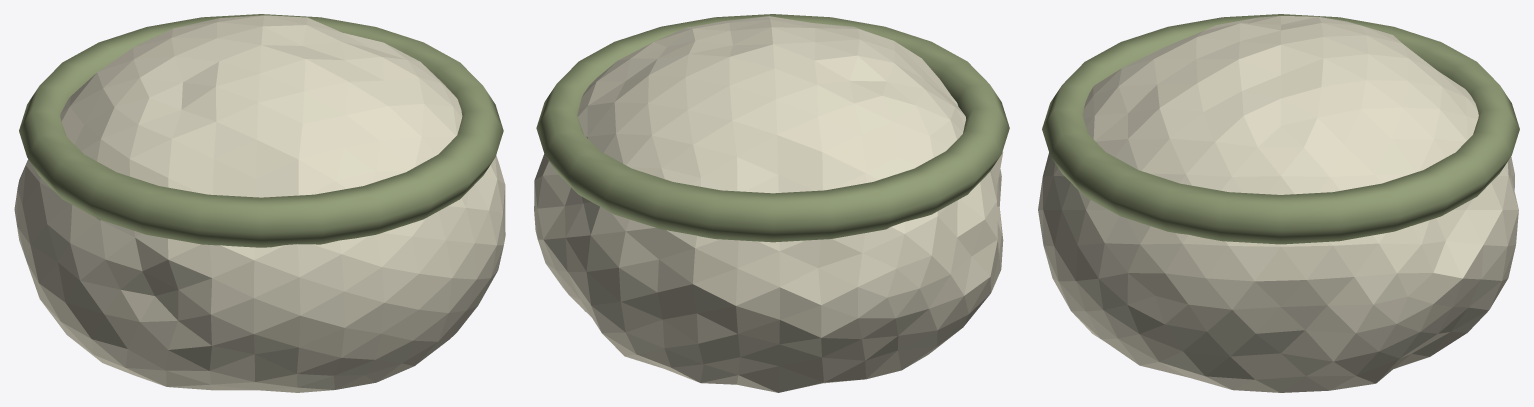
The model's file is primitive-crafting-workshop-grooved-hammerstone-e48d64e2__21536.glb.
The picture shows the model from 3 angles, left to right: view 1: azimuth 30°, elevation 25°; view 2: azimuth 150°, elevation 25°; view 3: azimuth 270°, elevation 25°; orthographic projection. The views are drawn at different scales.
Parts seen in each view (by area): view 1: grooved-hammerstone; view 2: grooved-hammerstone; view 3: grooved-hammerstone.
Part boxes in pixels (x1,y1,x2,y2): grooved-hammerstone: (14, 14, 505, 392); grooved-hammerstone: (534, 14, 1009, 392); grooved-hammerstone: (1038, 14, 1519, 392).
Size of the model in its own units: 0.154 by 0.0981 by 0.1553.
